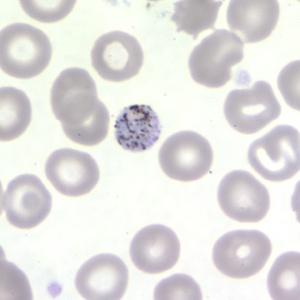Infected: (114, 103, 159, 152)
Uninfected: (189, 29, 247, 90), (247, 123, 300, 180), (0, 23, 53, 79), (224, 81, 280, 134), (217, 168, 271, 222), (213, 228, 270, 278), (92, 30, 144, 83), (74, 250, 129, 300), (159, 130, 212, 181), (4, 174, 52, 230), (47, 148, 100, 198), (59, 92, 108, 146), (130, 223, 180, 275), (49, 67, 96, 120), (226, 0, 280, 42), (0, 86, 32, 141), (267, 251, 300, 300), (154, 273, 202, 300), (0, 263, 34, 300)
